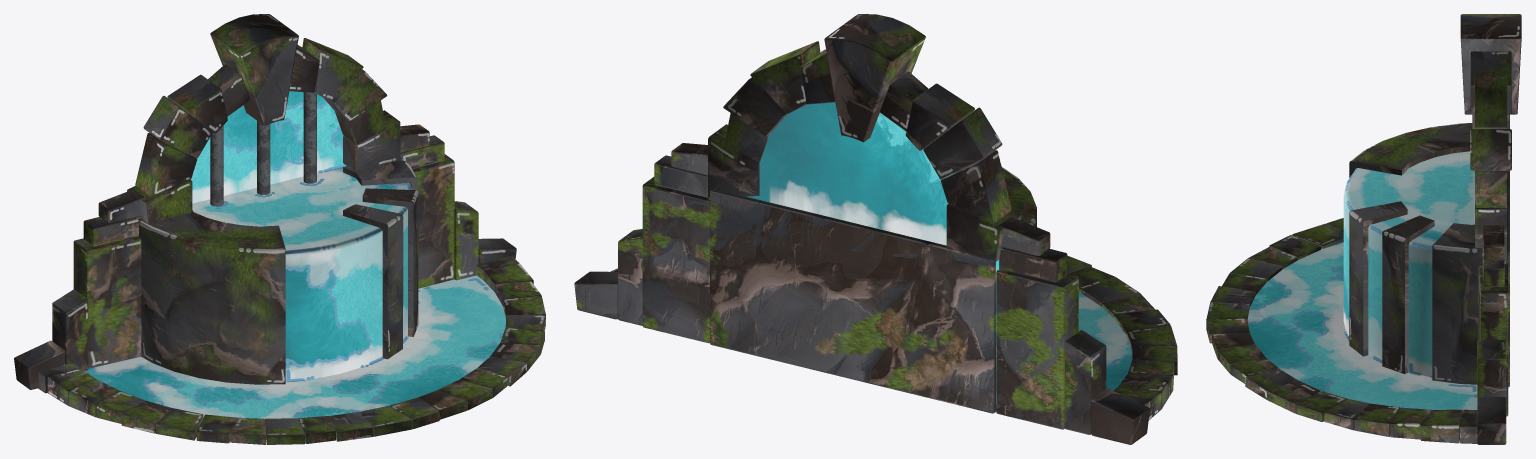
Rendered from artificial_stone_waterfall.obj.
The picture shows the model from 3 angles, left to right: view 1: azimuth 30°, elevation 25°; view 2: azimuth 150°, elevation 25°; view 3: azimuth 270°, elevation 25°; orthographic projection. The views are drawn at different scales.
Visible parts, largest first — view 1: obj17, obj15, obj18, obj16, obj9, obj14, obj8, obj13, obj7, obj2, obj6, obj5 (+5 smaller); view 2: obj4, obj18, obj17, obj9, obj14, obj16, obj8, obj7, obj13, obj12, obj6, obj5 (+3 smaller); view 3: obj17, obj15, obj16, obj18, obj14, obj13, obj12, obj10, obj11, obj4.
Part boxes in pixels (left/top/right/bottom): obj17: left=84, top=91, right=505, bottom=425; obj15: left=138, top=157, right=418, bottom=384; obj18: left=127, top=14, right=400, bottom=223; obj16: left=38, top=256, right=545, bottom=444; obj9: left=73, top=236, right=141, bottom=368; obj14: left=412, top=154, right=454, bottom=288; obj8: left=52, top=289, right=88, bottom=370; obj13: left=454, top=201, right=478, bottom=280; obj7: left=14, top=340, right=64, bottom=389; obj2: left=303, top=92, right=316, bottom=183; obj6: left=83, top=216, right=142, bottom=246; obj5: left=98, top=189, right=143, bottom=223; obj4: left=710, top=189, right=996, bottom=413; obj18: left=708, top=14, right=1021, bottom=261; obj17: left=708, top=102, right=1132, bottom=404; obj9: left=996, top=269, right=1078, bottom=429; obj14: left=642, top=177, right=709, bottom=343; obj16: left=610, top=255, right=1177, bottom=420; obj8: left=1065, top=330, right=1106, bottom=434; obj7: left=1091, top=388, right=1149, bottom=444; obj13: left=618, top=229, right=642, bottom=325; obj12: left=574, top=271, right=617, bottom=319; obj6: left=999, top=247, right=1067, bottom=282; obj5: left=999, top=217, right=1050, bottom=256; obj17: left=1247, top=151, right=1505, bottom=410; obj15: left=1349, top=123, right=1482, bottom=384; obj16: left=1206, top=218, right=1477, bottom=443; obj18: left=1460, top=14, right=1521, bottom=261; obj14: left=1478, top=263, right=1508, bottom=416; obj13: left=1477, top=340, right=1506, bottom=397; obj12: left=1477, top=397, right=1506, bottom=444; obj10: left=1482, top=225, right=1504, bottom=260; obj11: left=1482, top=247, right=1504, bottom=286; obj4: left=1505, top=170, right=1509, bottom=387.
Size of the model in its own units: 819 by 482 by 456.
Materials: 6 (6 with a texture image).
